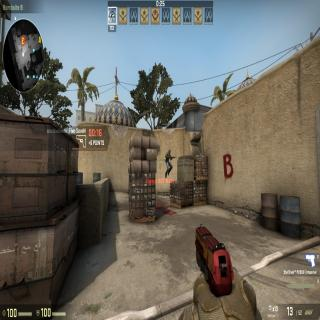T-Body: (164, 148, 172, 176)
T-Head: (167, 147, 172, 154)
